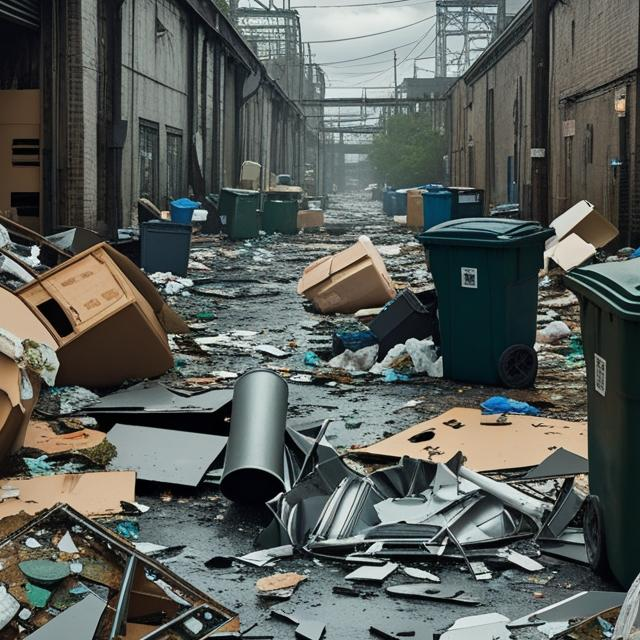plastic: (428, 226, 543, 396), (580, 262, 640, 586)
